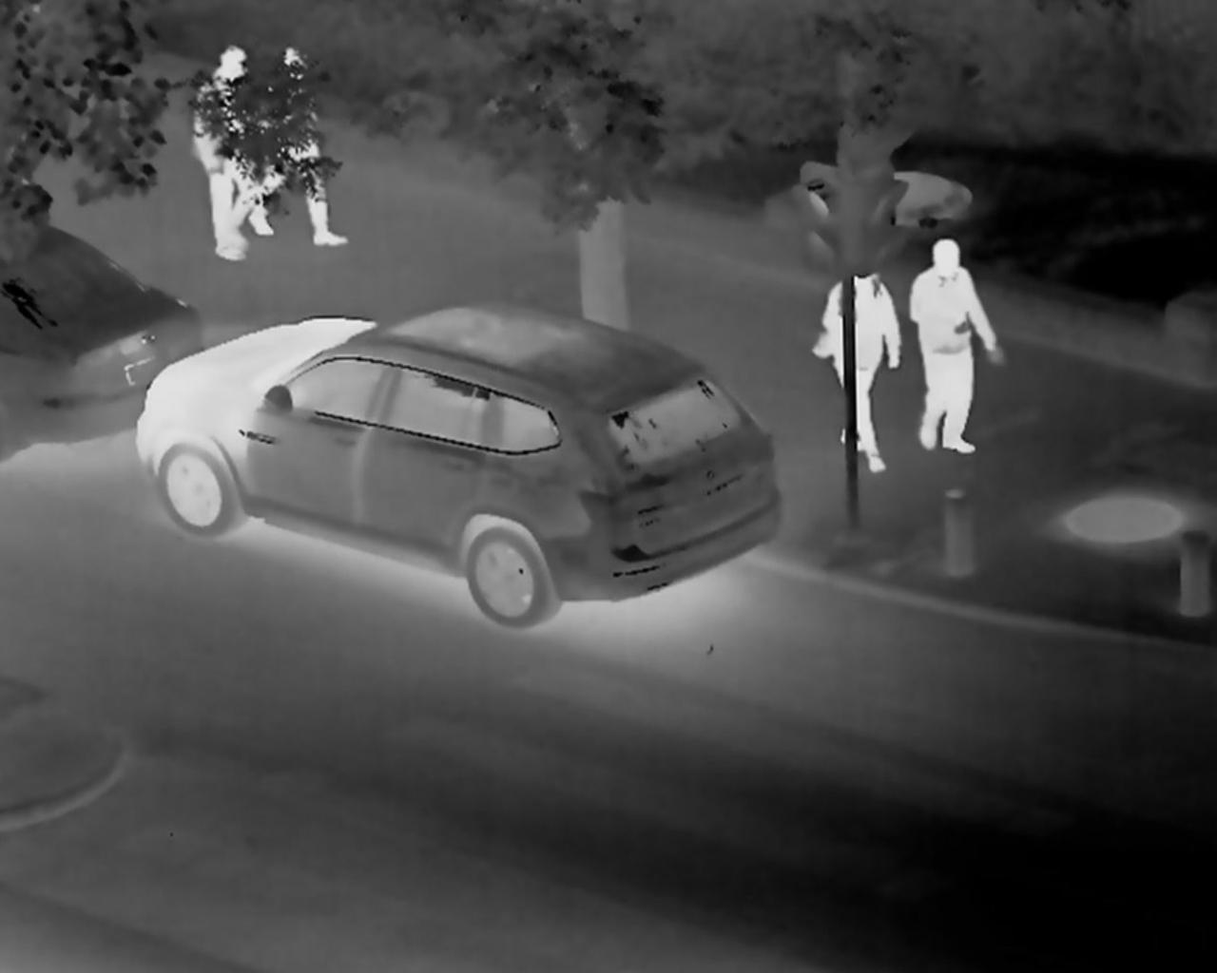person: (906, 238, 1003, 456), (246, 45, 348, 250), (813, 271, 900, 475), (192, 44, 261, 262)
